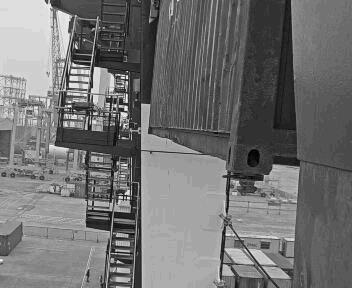twist_lock_1: (120, 160, 163, 189)
